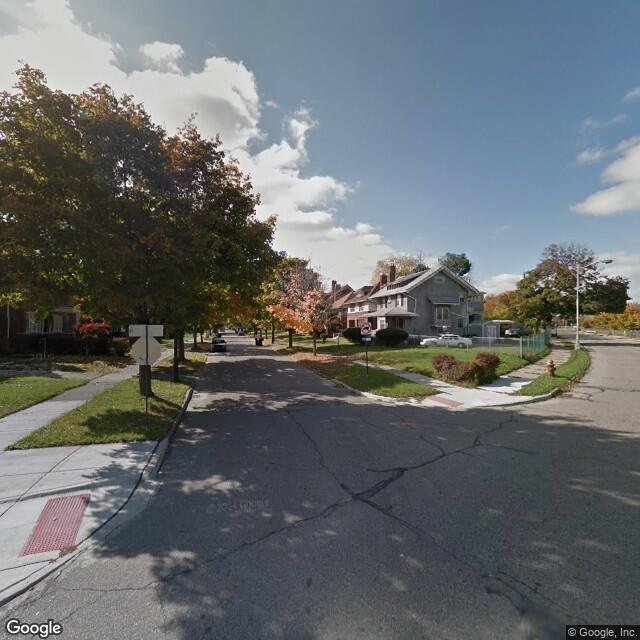litter: (155, 469, 165, 479), (48, 516, 59, 521)
